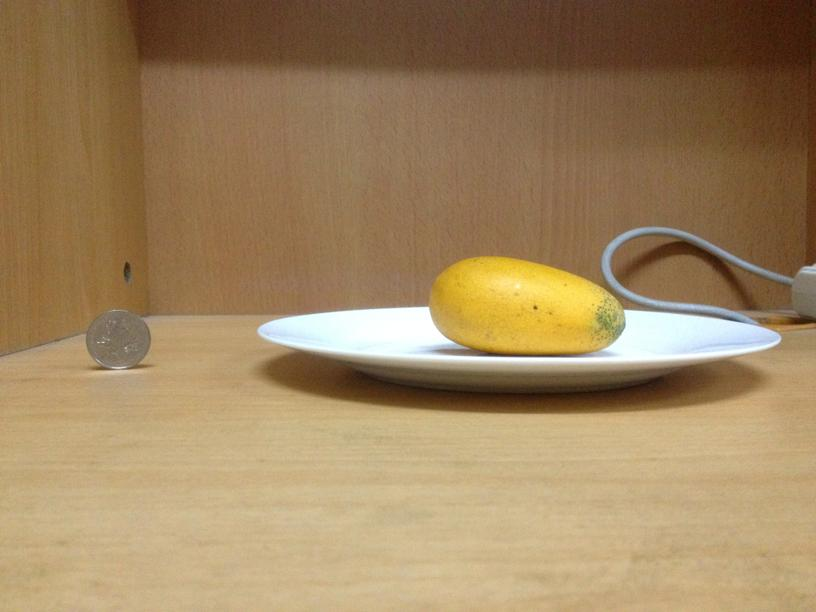coin: (86, 307, 152, 368)
mango: (427, 254, 624, 352)
